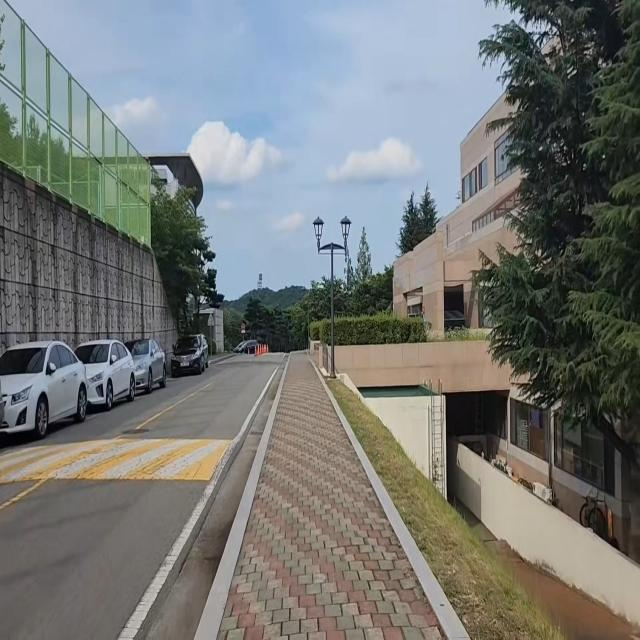obstacle: (1, 330, 168, 455)
road: (0, 357, 283, 640)
sidewalk: (204, 351, 472, 640)
